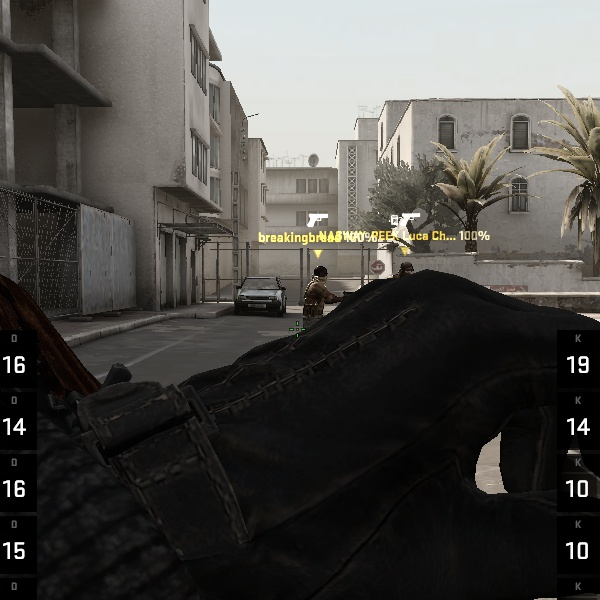t_body: (301, 265, 342, 331)
t_head: (313, 265, 328, 286)
